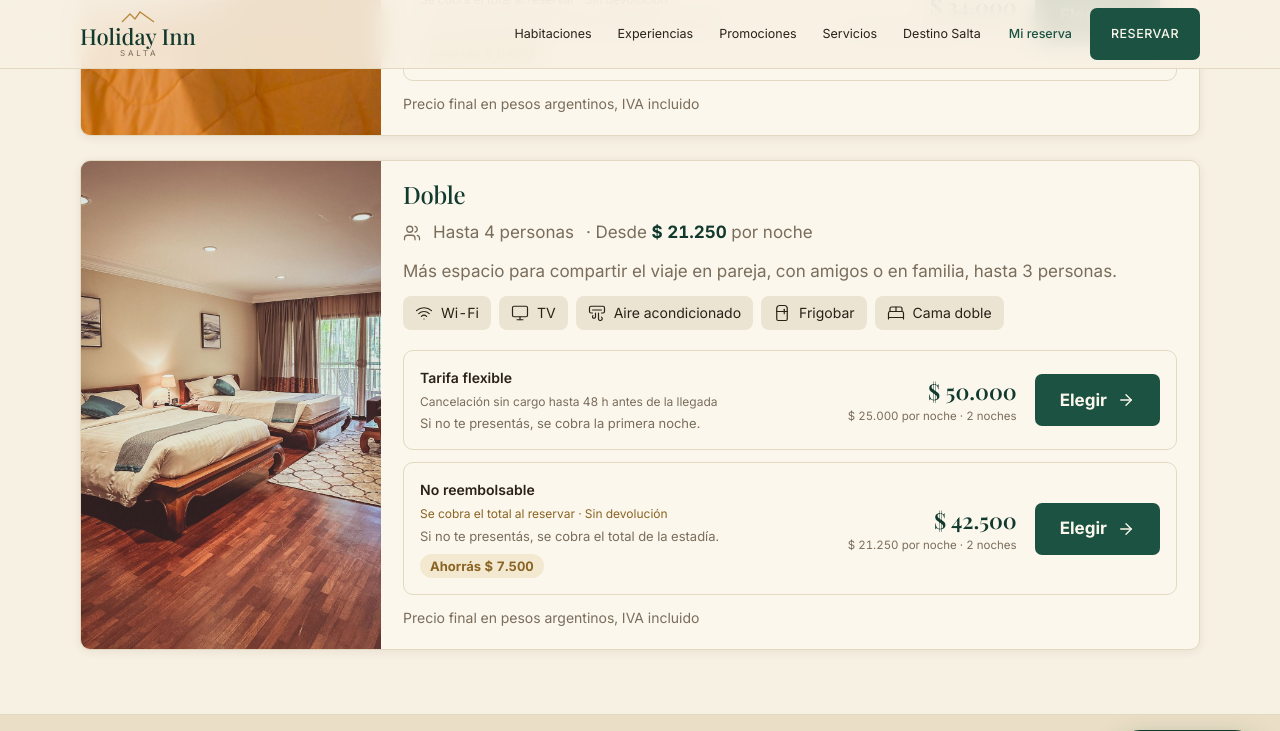
it: Resultados › mensaje seguro del motor (estadía mínima): se muestra en la tarjeta del tipo
(page scrolled)
Click the button with aria-label "Elegir Tarifa flexible por $ 50.000": point(1097, 400) top-left (1035, 374), bottom-right (1160, 426)
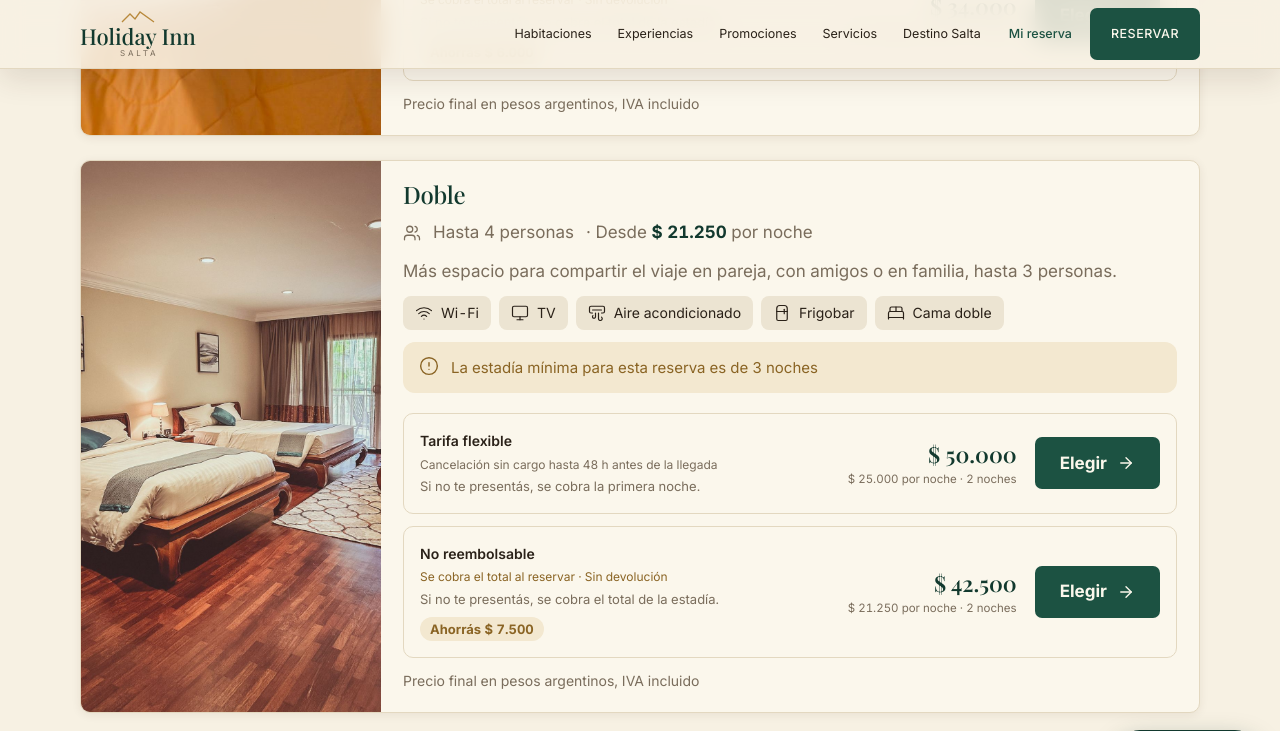
Check: the text "La estadía mínima para esta reserva es de 3 noches" is shown, box top-left (403, 342), bottom-right (1177, 393)
